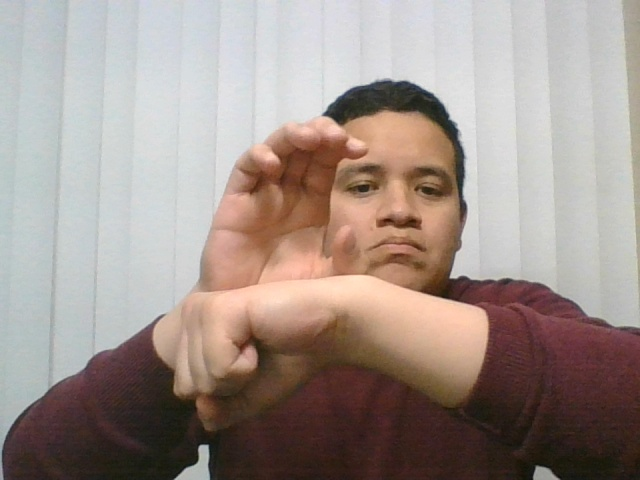Church: (142, 108, 393, 441)
